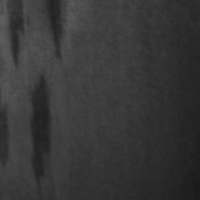inclusion: (22, 67, 58, 193), (0, 5, 34, 72), (45, 3, 69, 66)
